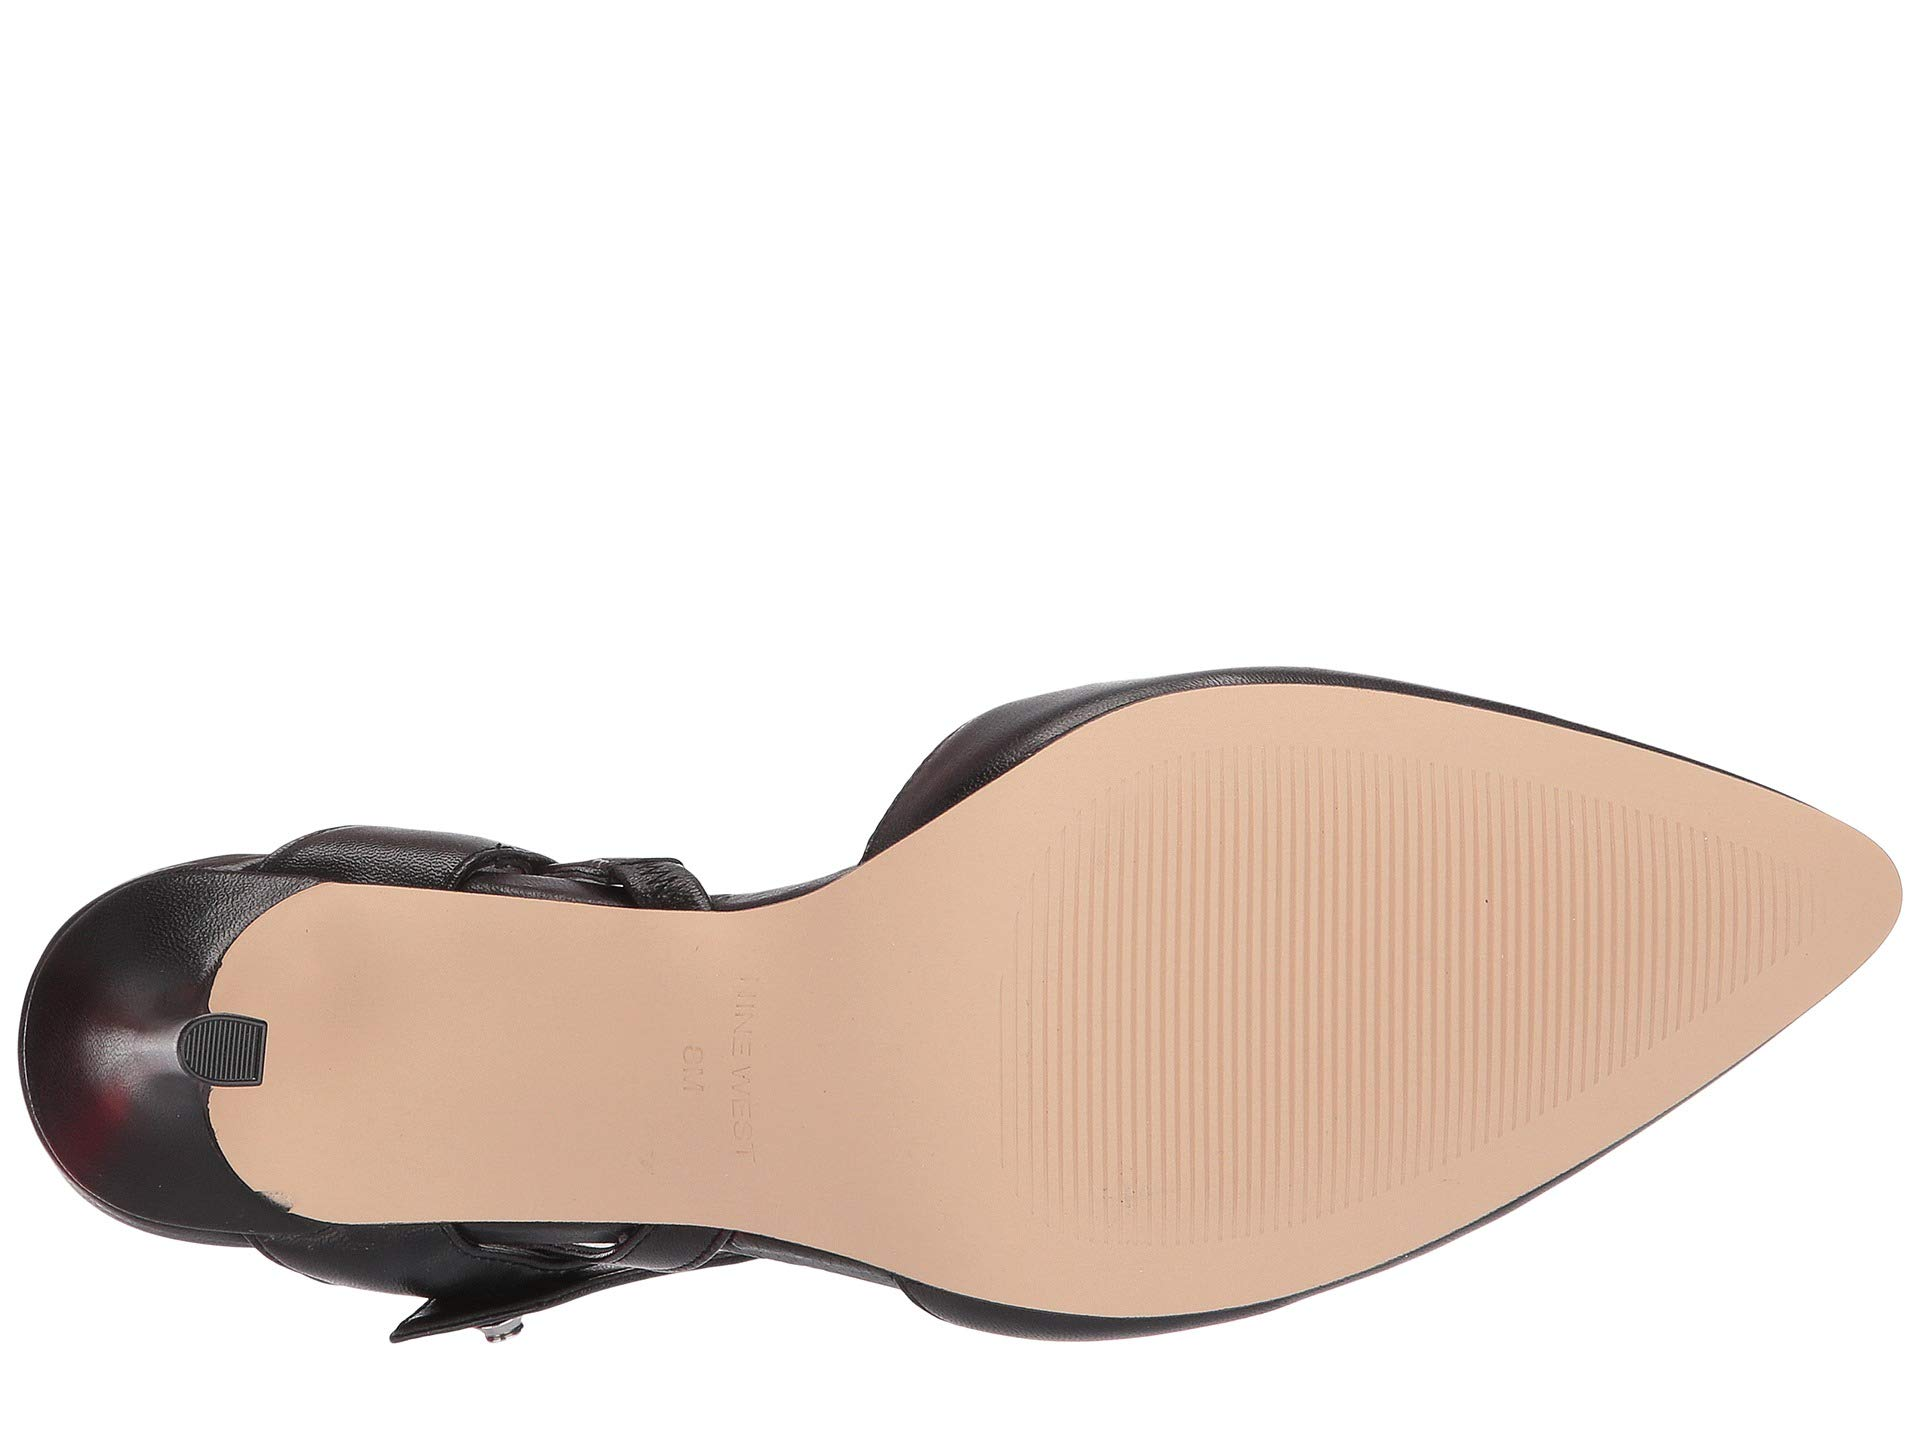line: (1110, 805, 1581, 1139)
